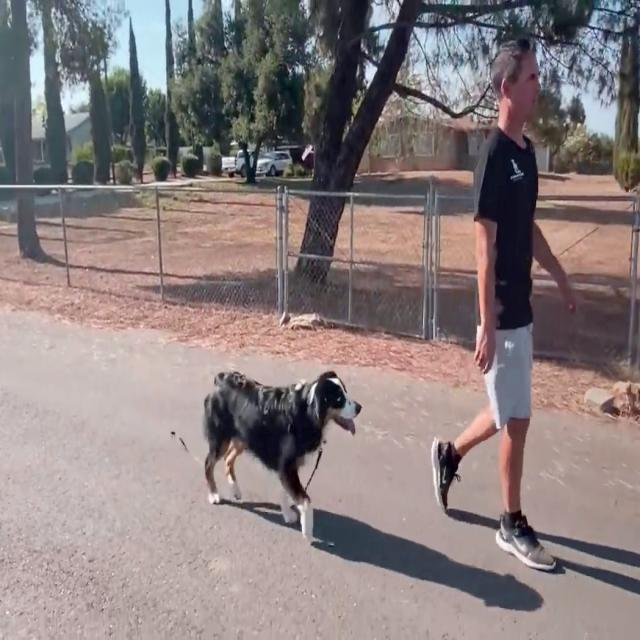Unleashed_Dog: (202, 326, 520, 544)
